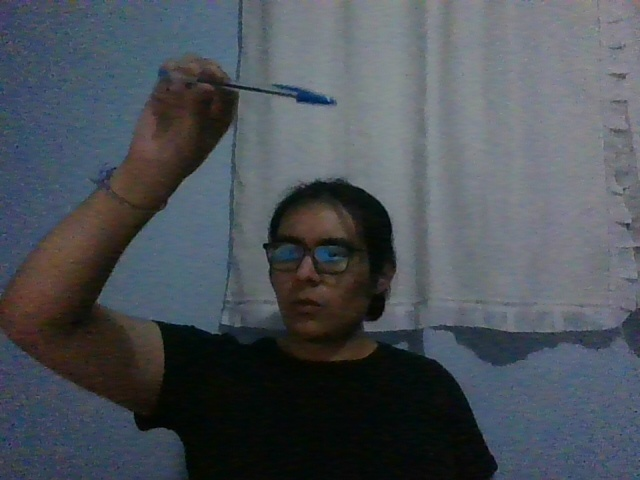pluma: (156, 68, 337, 106)
